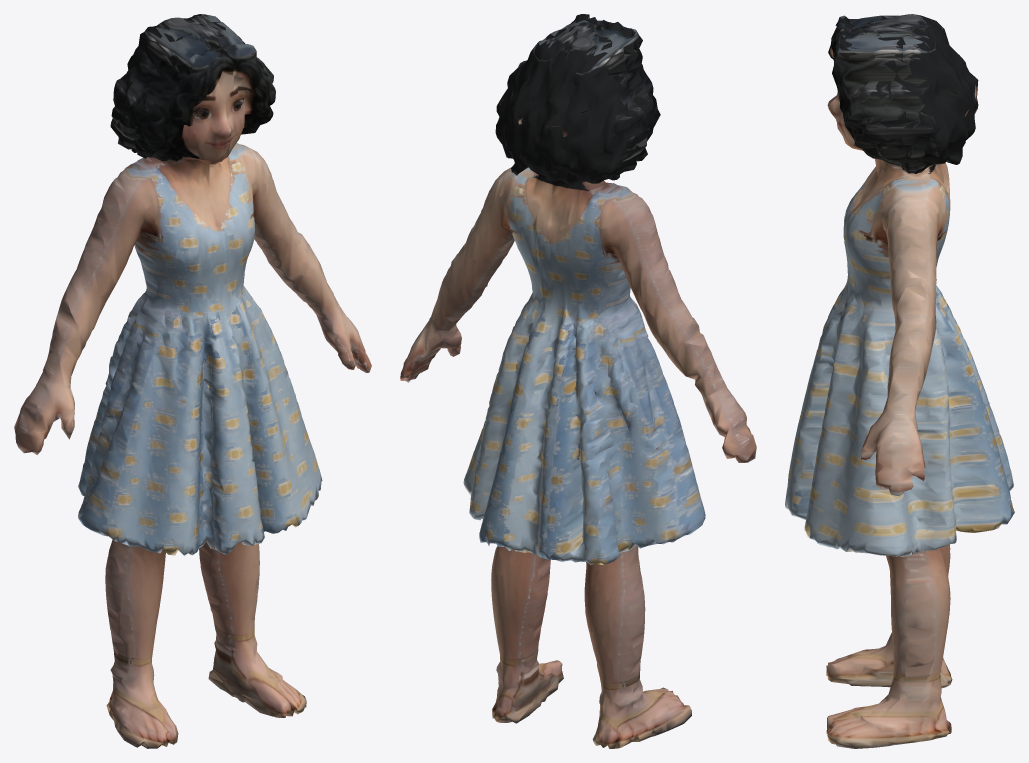
File: mate.obj
3 renders of one model, left to right at view 1: azimuth 30°, elevation 25°; view 2: azimuth 150°, elevation 25°; view 3: azimuth 270°, elevation 25°, orthographic.
Visible parts, largest first — view 1: mate; view 2: mate; view 3: mate.
Part boxes in pixels (x1,y1,x2,y2): mate: [14, 14, 371, 748]; mate: [400, 14, 756, 748]; mate: [785, 14, 1014, 748].
Bounding box in the file's own units: 0.7983 × 1.5 × 0.4561.
Materials: 1 (1 with a texture image).
